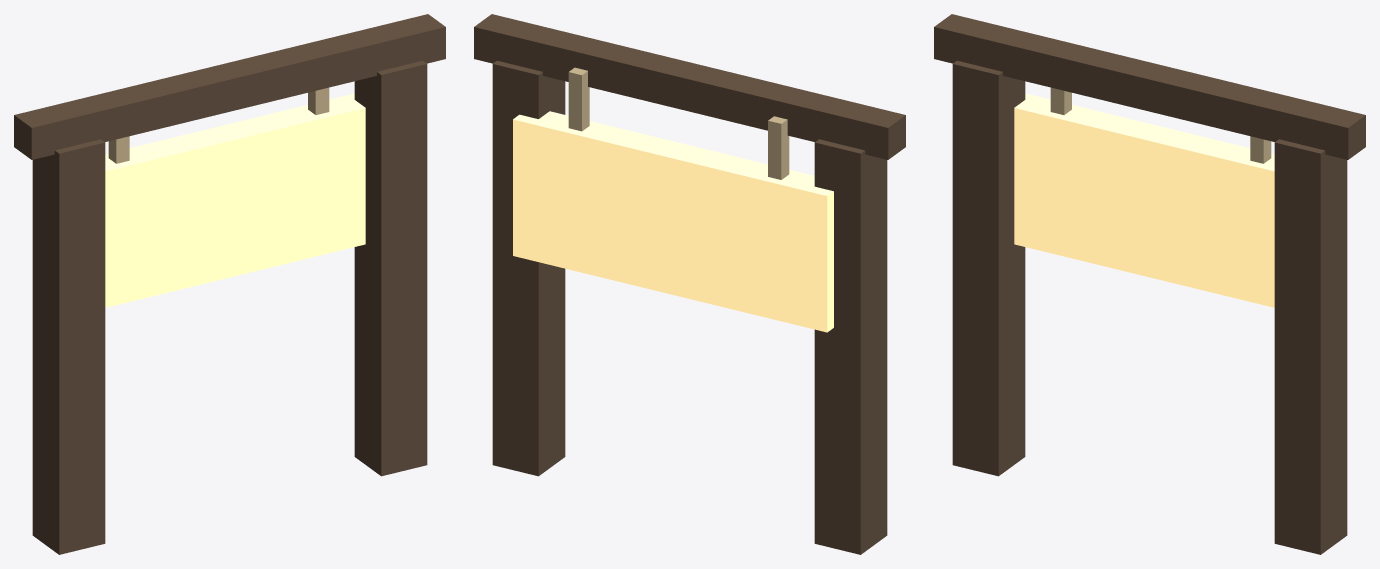
File: hanging_sign.glb
The picture shows the model from 3 angles, left to right: view 1: azimuth 30°, elevation 25°; view 2: azimuth 150°, elevation 25°; view 3: azimuth 330°, elevation 25°; orthographic projection.
Visible parts, largest first — view 1: hanging_sign; view 2: hanging_sign; view 3: hanging_sign.
Part boxes in pixels (x1,y1,x2,y2): hanging_sign: (14,14,445,554); hanging_sign: (474,14,905,554); hanging_sign: (934,14,1365,554).
Bounding box in the file's own units: 1.08 × 1.07 × 0.15.
